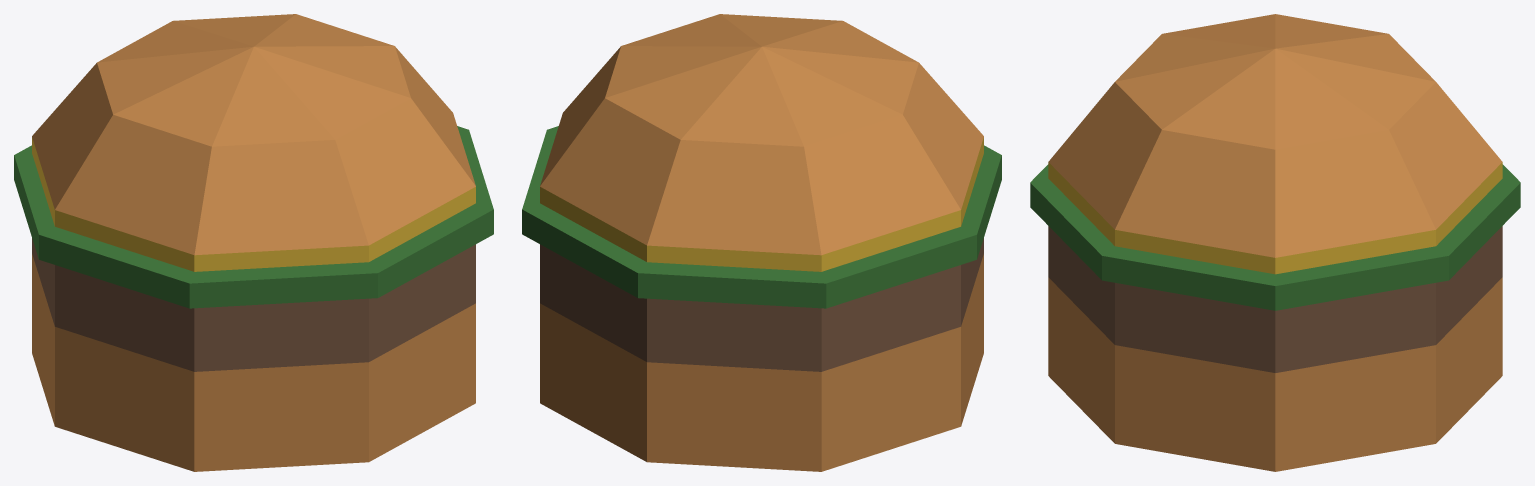
File: FD_Hamburger_01.glb
The picture shows the model from 3 angles, left to right: view 1: azimuth 30°, elevation 25°; view 2: azimuth 150°, elevation 25°; view 3: azimuth 270°, elevation 25°; orthographic projection.
Parts seen in each view (by area): view 1: FD_Hamburger_01; view 2: FD_Hamburger_01; view 3: FD_Hamburger_01.
Boxes of the visible parts, x1,y1,x2,y2 form: FD_Hamburger_01: (14, 14, 493, 471); FD_Hamburger_01: (522, 14, 1001, 471); FD_Hamburger_01: (1030, 14, 1520, 471).
Bounding box in the file's own units: 0.108 × 0.0795 × 0.108.
1 material, 1 textured.
